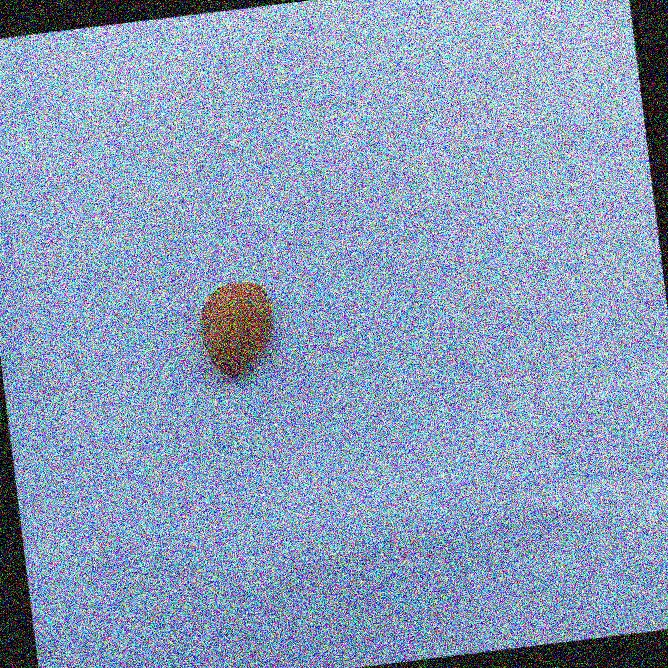grade2: (192, 275, 287, 385)
